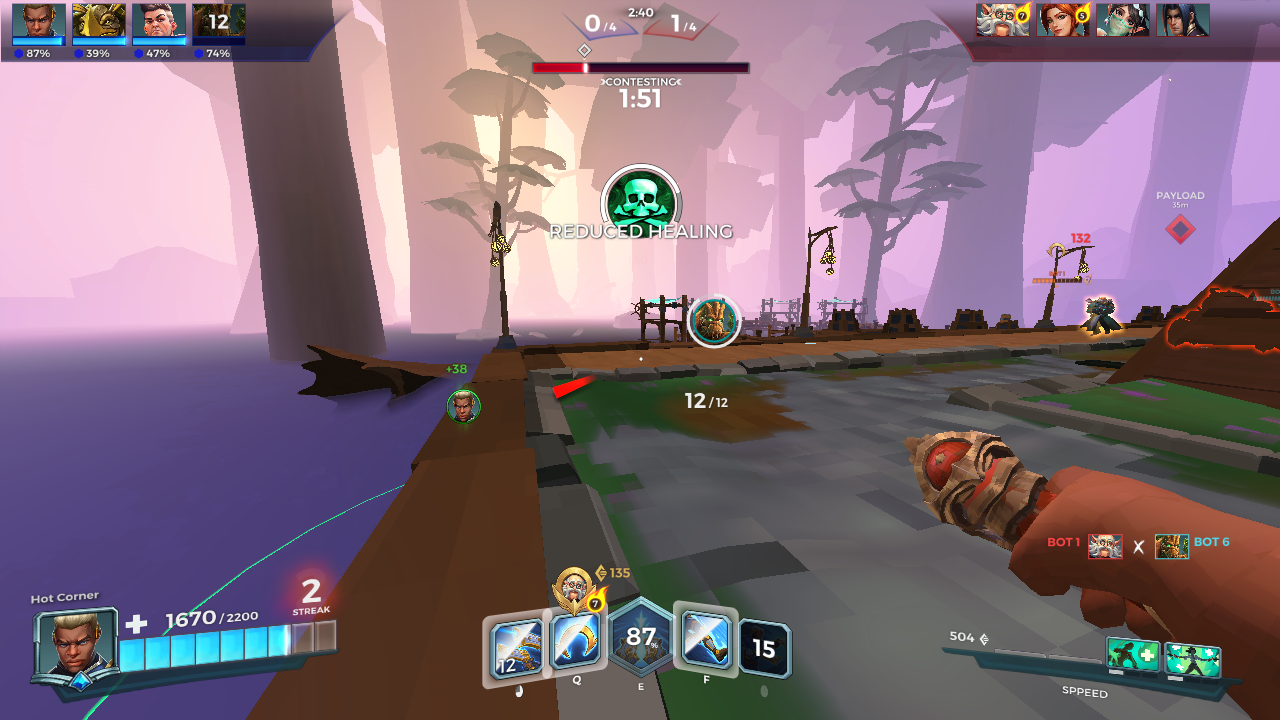model: (1090, 290, 1114, 338)
